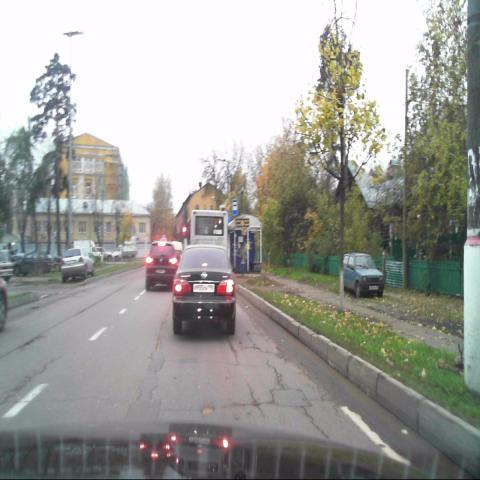2_2: (224, 197, 231, 210)
